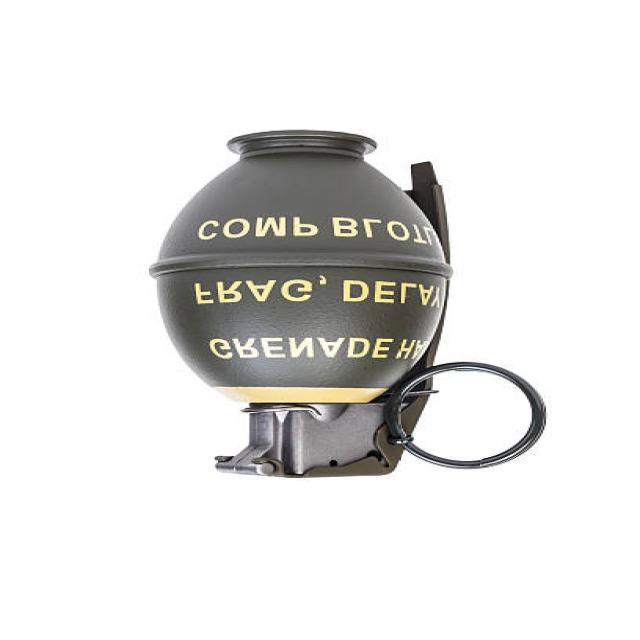grenade: (139, 121, 553, 485)
